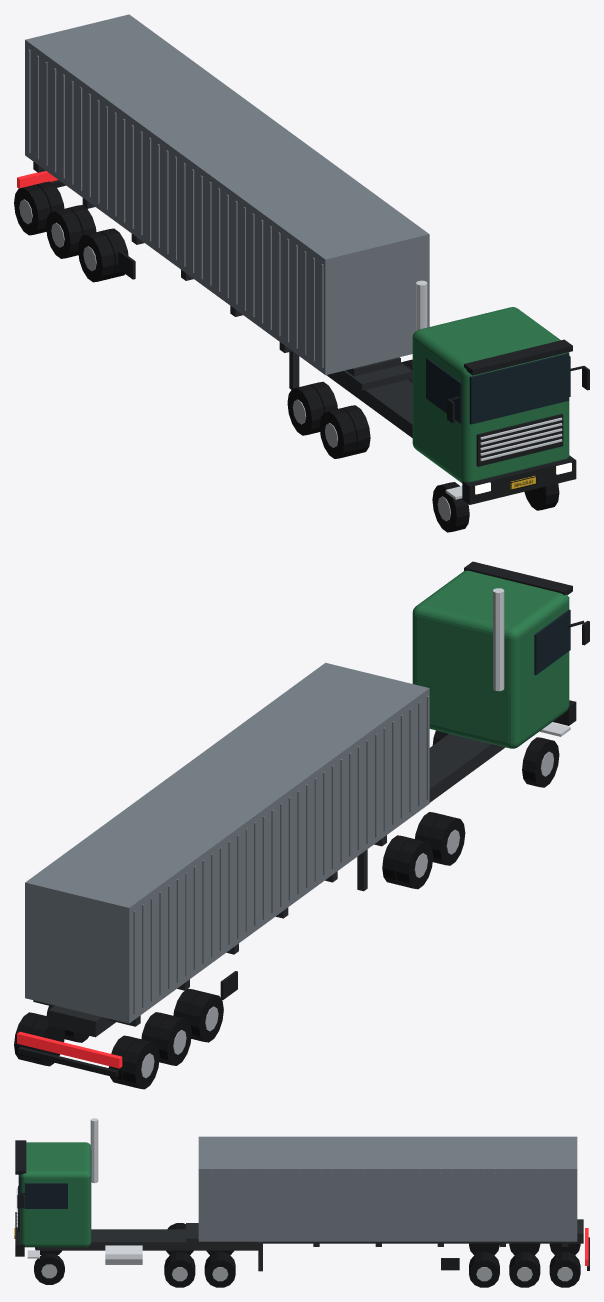
The model's file is truck_e.glb.
The picture shows the model from 3 angles, top to bottom: view 1: azimuth 30°, elevation 25°; view 2: azimuth 150°, elevation 25°; view 3: azimuth 270°, elevation 25°; orthographic projection. The views are drawn at different scales.
Visible parts, largest first — view 1: truck; view 2: truck; view 3: truck.
Part boxes in pixels (x1,y1,x2,y2): truck: (14, 14, 589, 532); truck: (14, 561, 589, 1089); truck: (14, 1118, 589, 1287).
Size of the model in its own units: 3.22 by 4.89 by 18.54.
11 materials, 1 textured.
